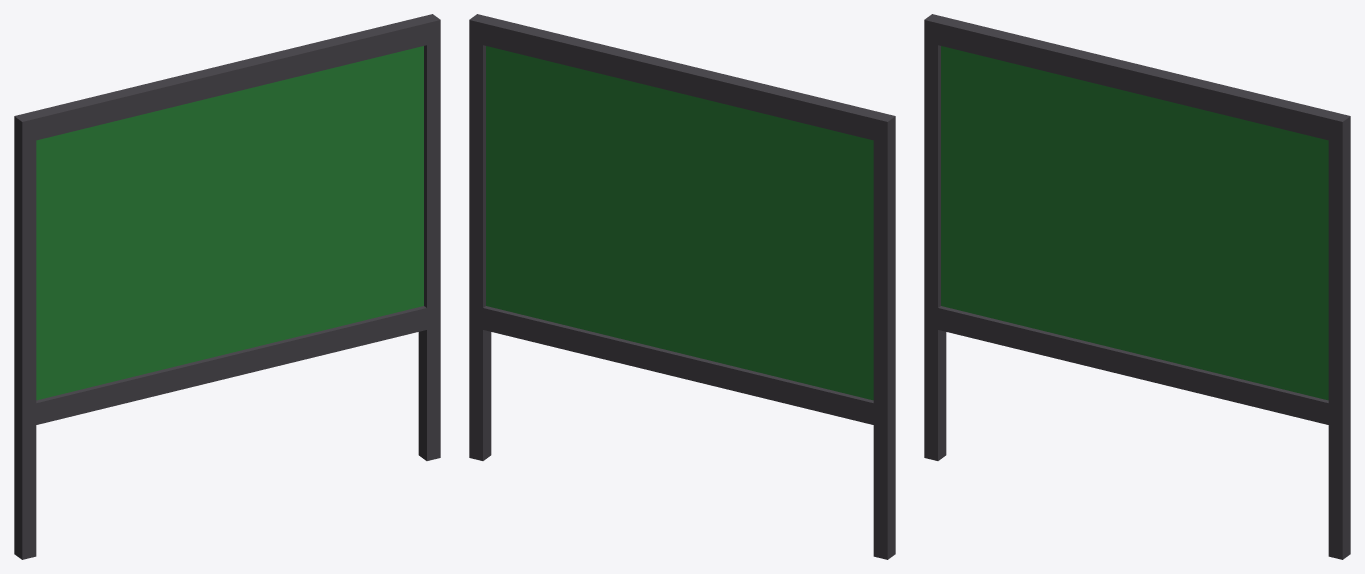
Rendered from LetreroMenu.fbx.
3 views of the same model, side by side, from view 1: azimuth 30°, elevation 25°; view 2: azimuth 150°, elevation 25°; view 3: azimuth 330°, elevation 25° (orthographic).
Parts seen in each view (by area): view 1: Cube.008; view 2: Cube.008; view 3: Cube.008.
Part boxes in pixels (bbox=[...]): Cube.008: bbox=[14, 14, 440, 559]; Cube.008: bbox=[469, 14, 895, 559]; Cube.008: bbox=[924, 14, 1350, 559].
Size of the model in its own units: 3000 by 100 by 3000.
